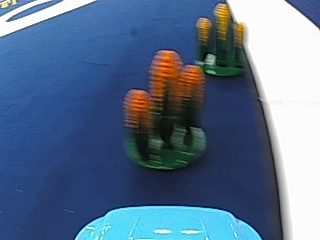corn: (128, 46, 207, 163), (196, 1, 250, 78)
